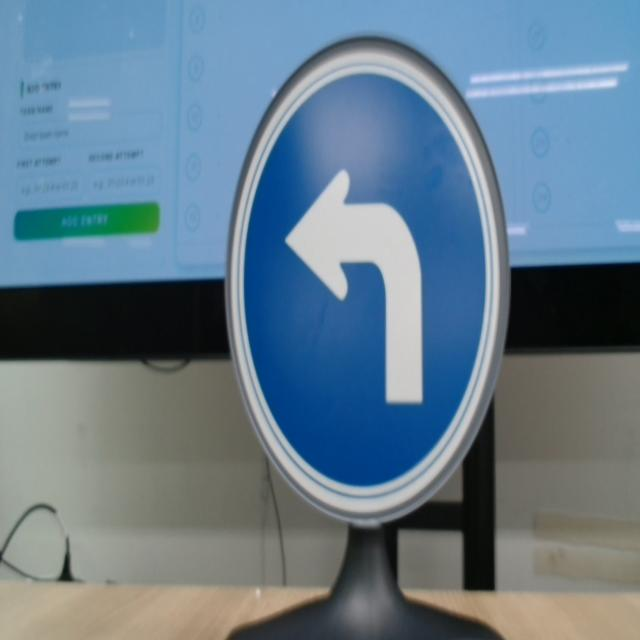left_direction: (218, 10, 525, 542)
